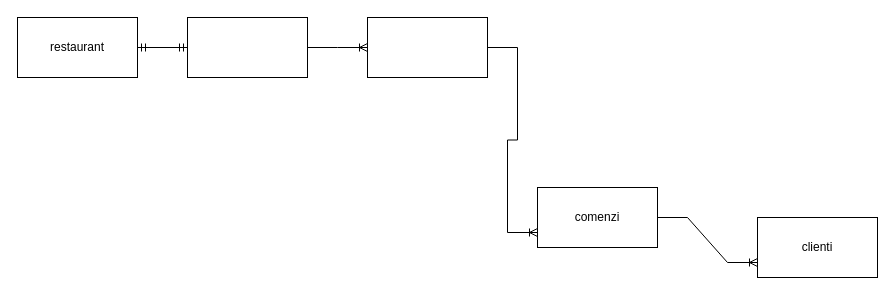
This 895x295 diagram has some shape labels left out. The shapes that lost their labels are listed below. From the top down, each one's box as (x1, y1, x2, y2) in pixels, then its label:
(186, 16, 308, 78): sala de mese
(366, 16, 488, 78): mese
